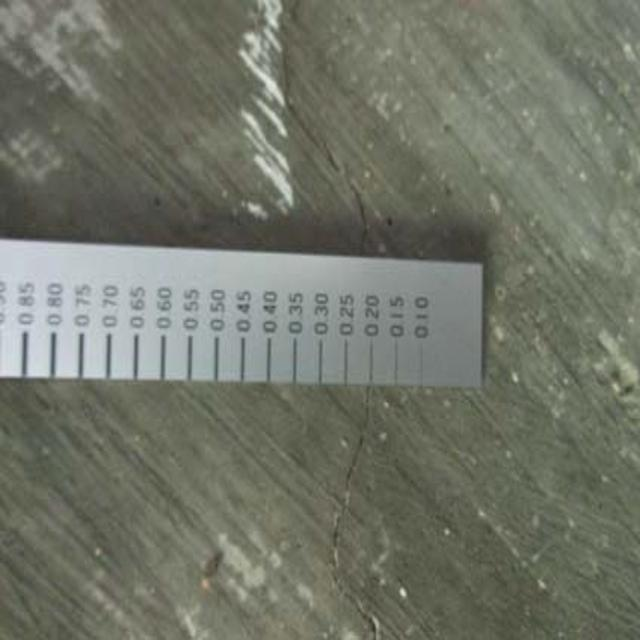crack: (278, 13, 383, 247), (320, 405, 410, 640)
